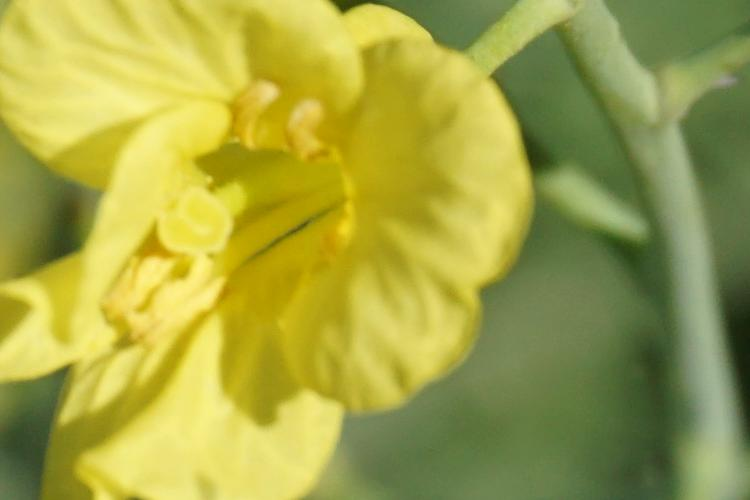yellow: (5, 1, 527, 499)
